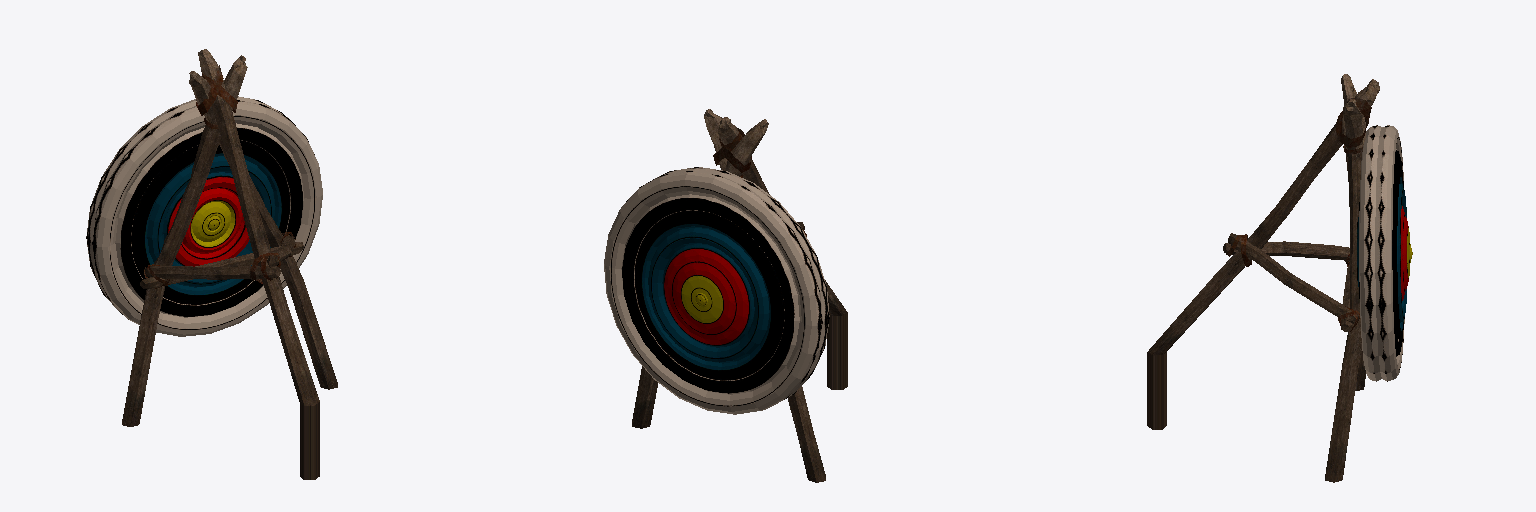
3 views of the same model, side by side, from view 1: azimuth 30°, elevation 25°; view 2: azimuth 150°, elevation 25°; view 3: azimuth 270°, elevation 25° (orthographic).
Parts seen in each view (by area): view 1: ArcheryTarget_Mesh; view 2: ArcheryTarget_Mesh; view 3: ArcheryTarget_Mesh.
Part boxes in pixels (x1,y1,x2,y2): ArcheryTarget_Mesh: (86, 49, 337, 479); ArcheryTarget_Mesh: (604, 109, 847, 482); ArcheryTarget_Mesh: (1147, 74, 1412, 482).
Size of the model in its own units: 2.24 by 3.32 by 2.3.
2 materials, 2 textured.